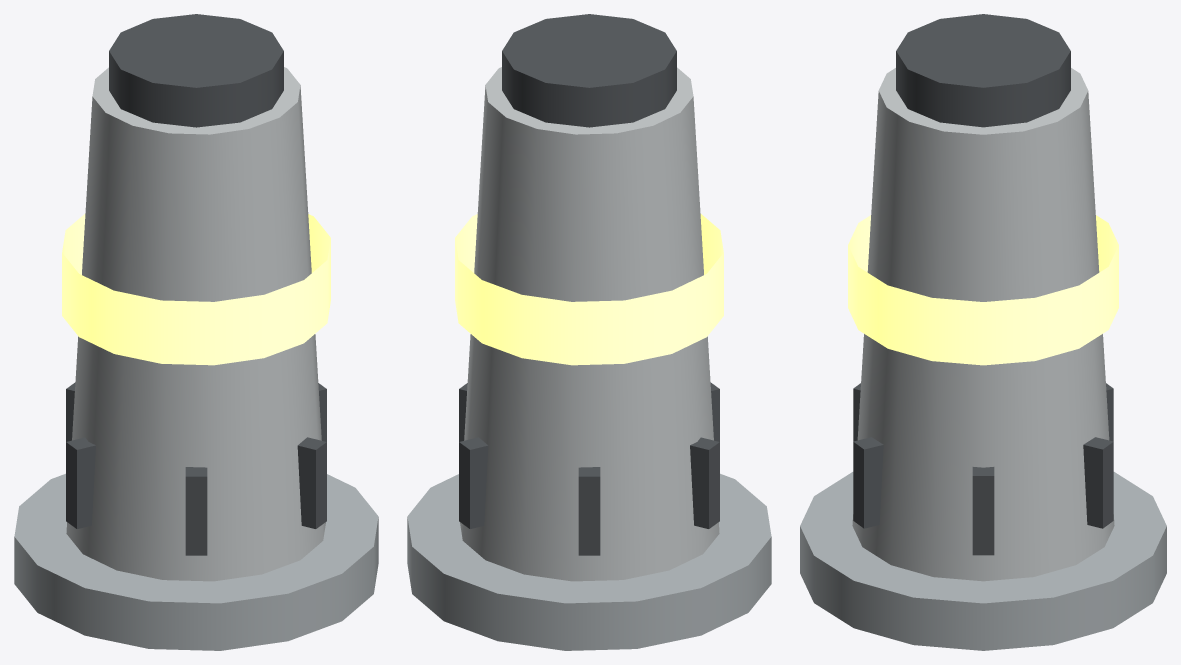
File: an_mist_y.glb
3 renders of one model, left to right at view 1: azimuth 30°, elevation 25°; view 2: azimuth 150°, elevation 25°; view 3: azimuth 270°, elevation 25°, orthographic.
Visible parts, largest first — view 1: an_mist_y; view 2: an_mist_y; view 3: an_mist_y.
Part boxes in pixels (bbox=[...]): an_mist_y: bbox=[14, 14, 378, 650]; an_mist_y: bbox=[407, 14, 771, 650]; an_mist_y: bbox=[800, 14, 1166, 650].
Size of the model in its own units: 0.84 by 1.32 by 0.84.
